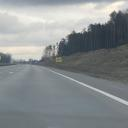speed_limit_100: (55, 58, 62, 62)
